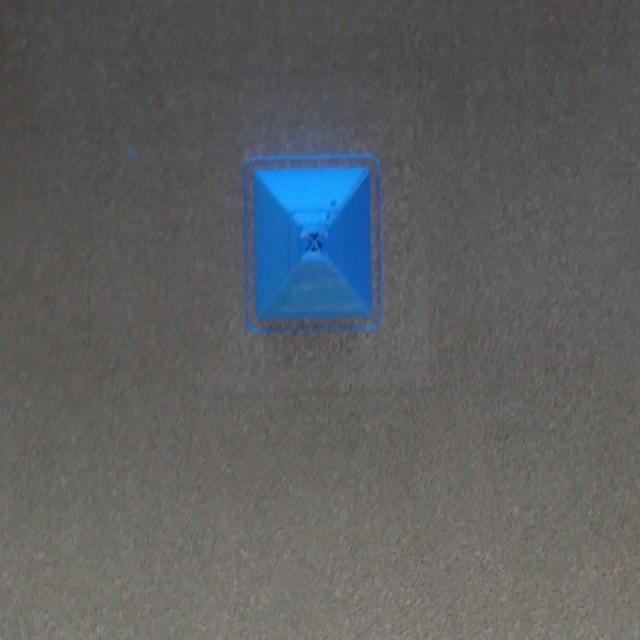mistake: (293, 200, 337, 264)
